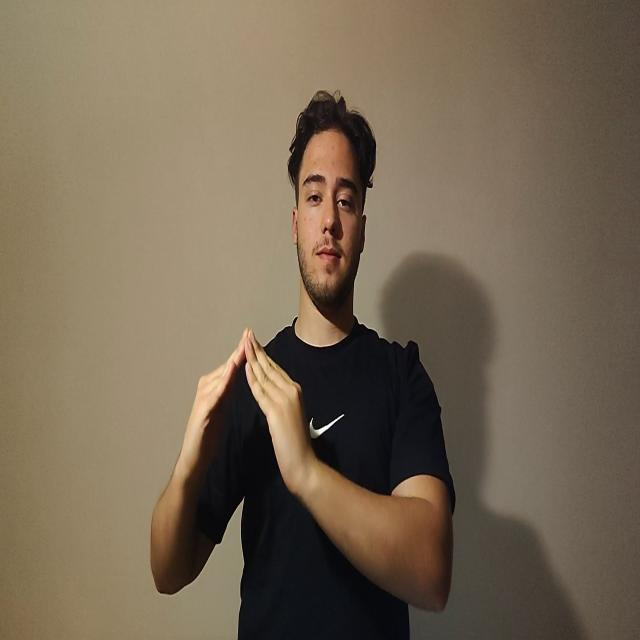house: (182, 331, 307, 495)
